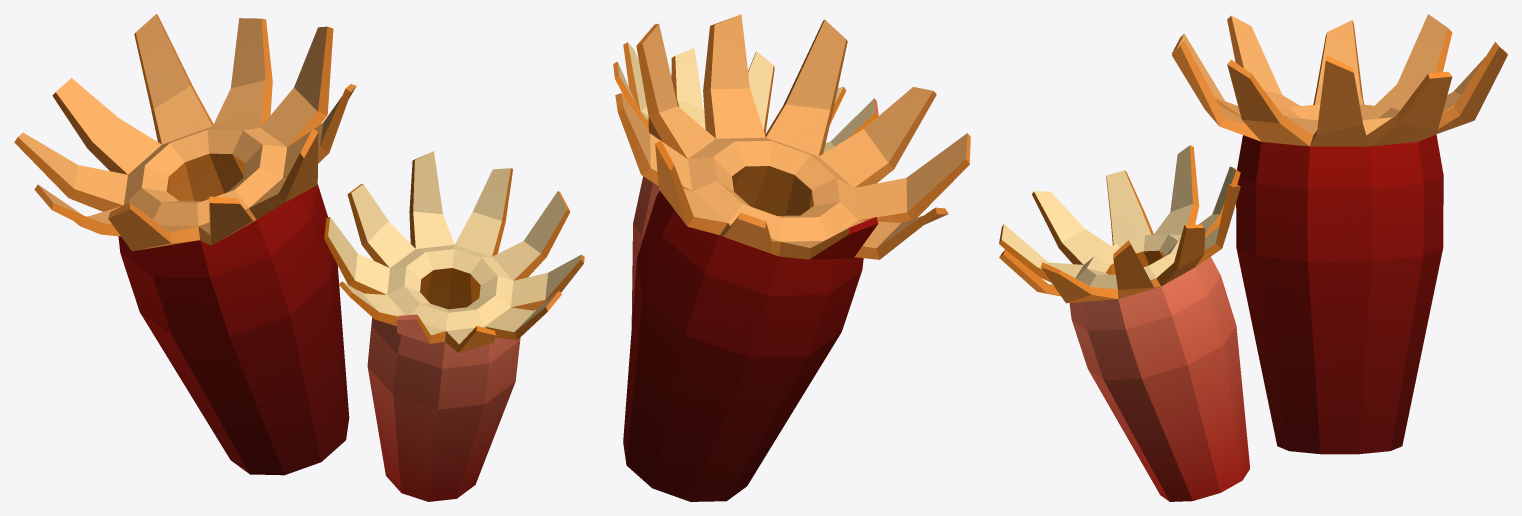
The model's file is anemonie.glb.
The picture shows the model from 3 angles, left to right: view 1: azimuth 30°, elevation 25°; view 2: azimuth 150°, elevation 25°; view 3: azimuth 270°, elevation 25°; orthographic projection. The views are drawn at different scales.
Visible parts, largest first — view 1: anemonie; view 2: anemonie; view 3: anemonie.
Boxes of the visible parts, bbox=[...] form: anemonie: bbox=[14, 14, 584, 501]; anemonie: bbox=[613, 14, 970, 501]; anemonie: bbox=[999, 14, 1507, 501].
Size of the model in its own units: 3.46 by 3.39 by 3.71.
Materials: 1 (1 with a texture image).
